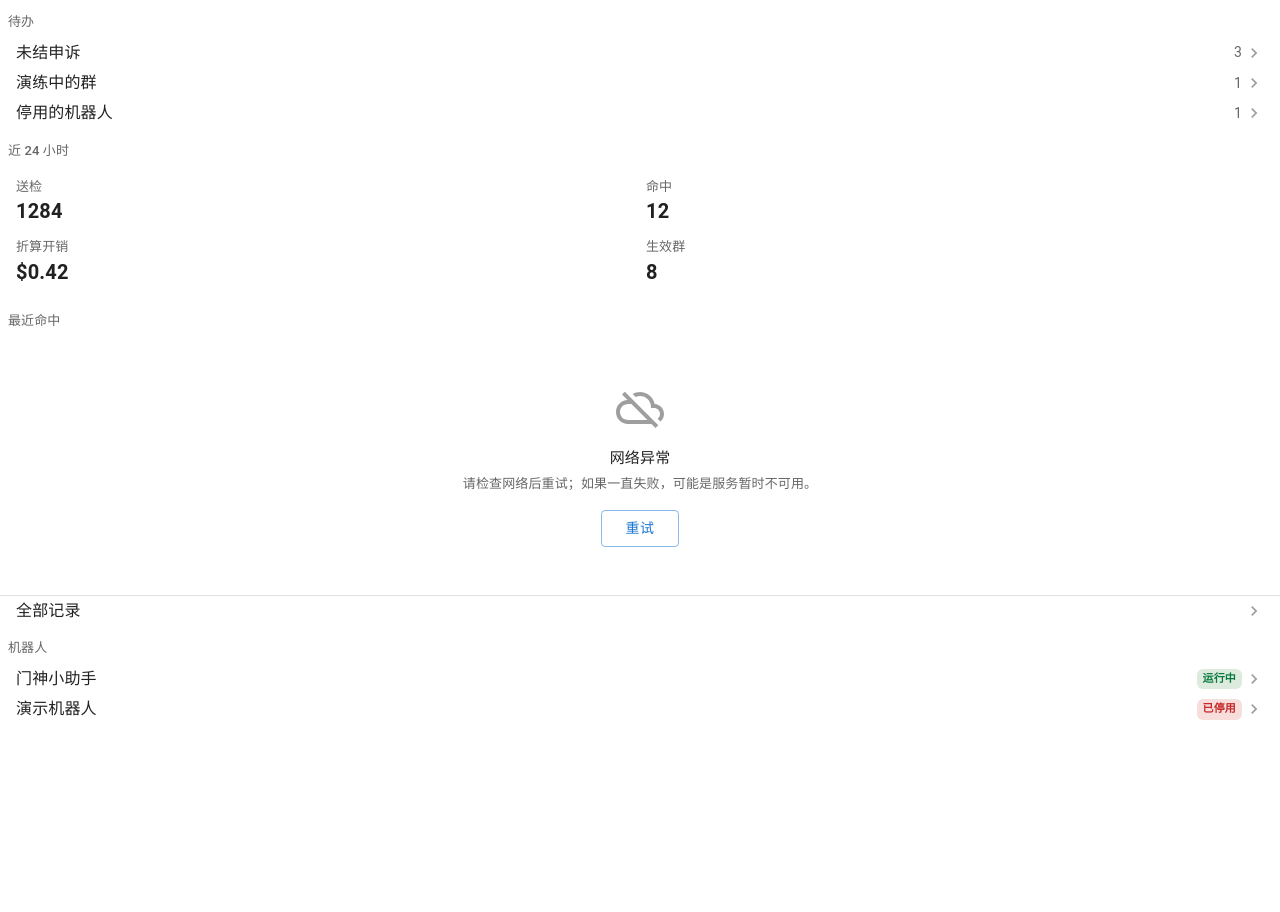
Test: OverviewPage › 最近命中加载失败显示错误卡，重试后恢复
Expected: the text "网络异常" is shown, [610,447,670,470]
Click the button "重试".
click(640, 529)  # box [601,510,679,547]
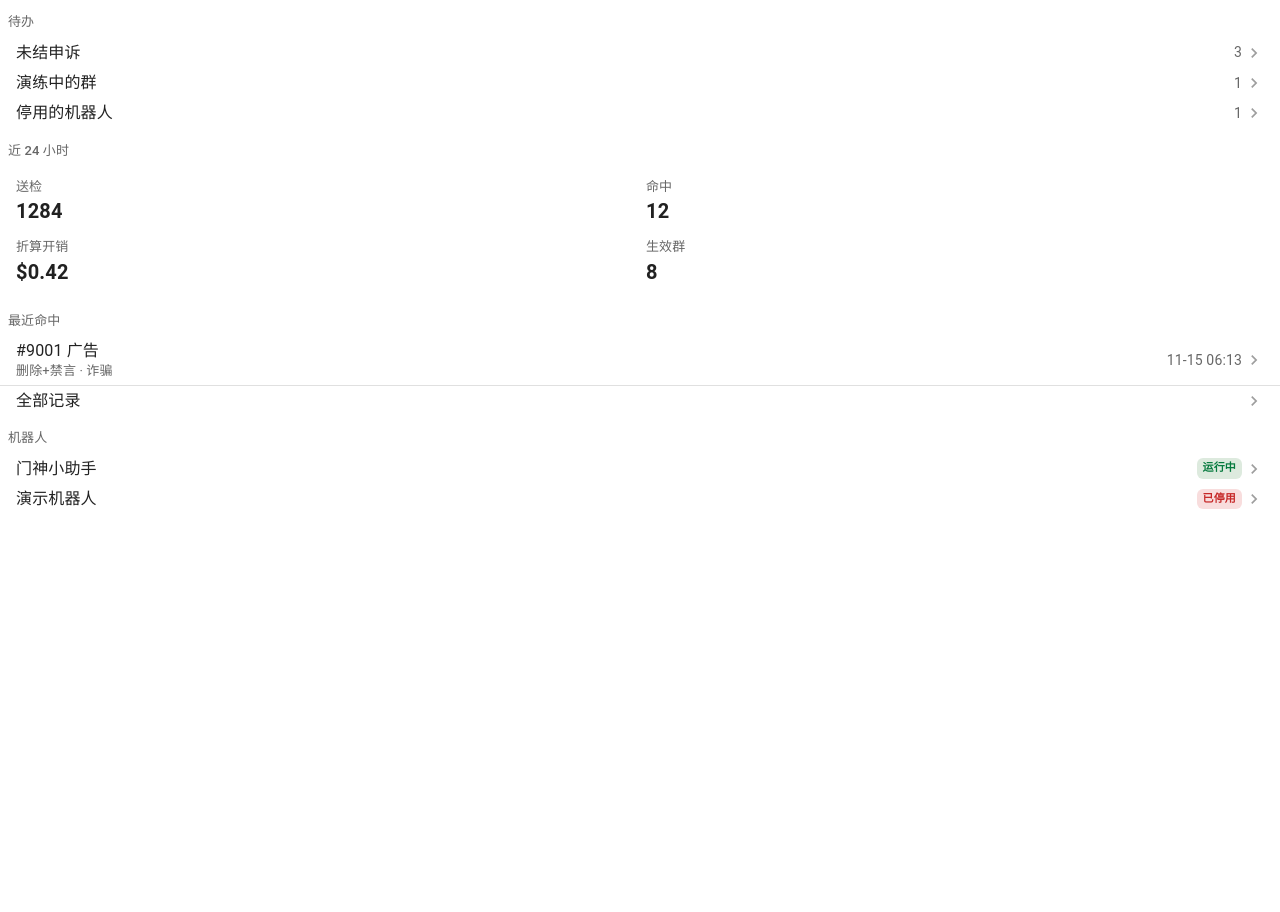
Now the text "#9001 广告" is shown, box [16,341,99,360]
